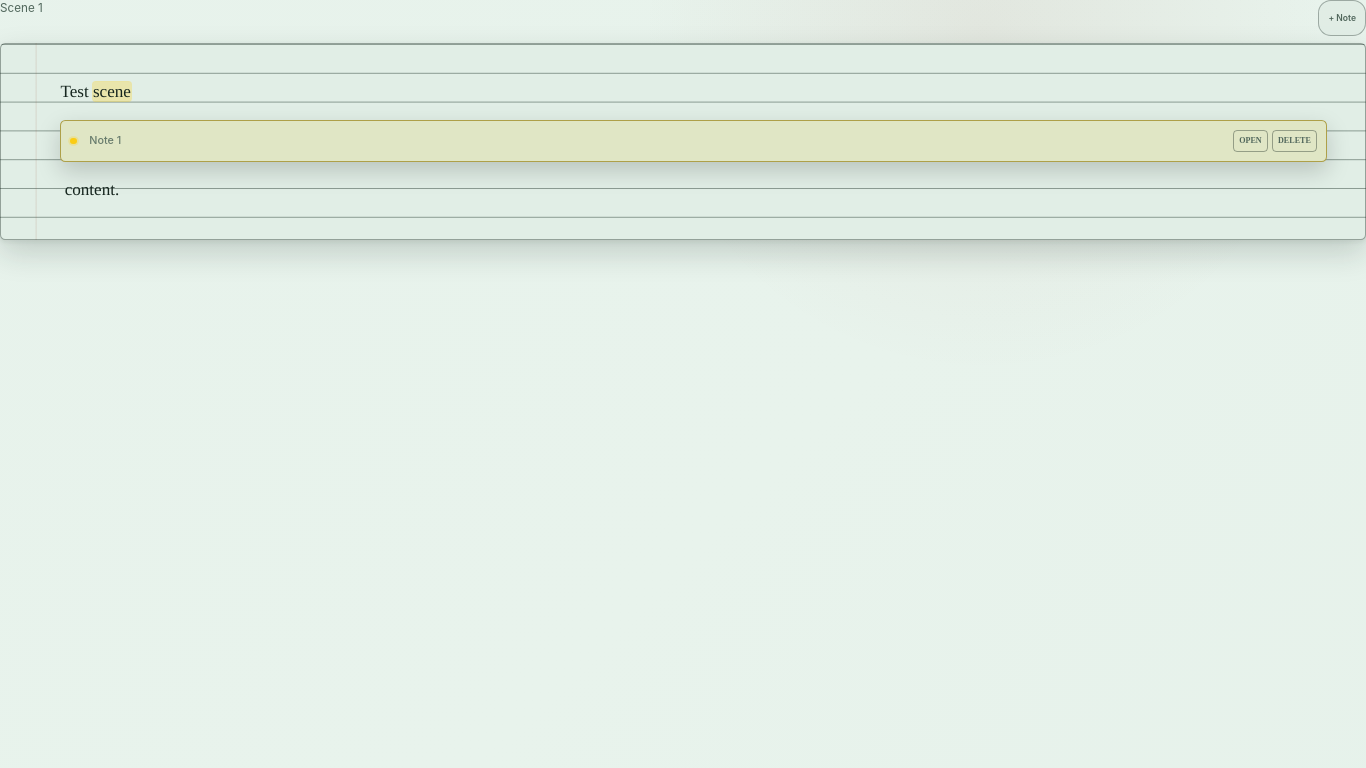
Test: SceneEditor note-anchor store commits on keystroke › highlights a range-anchored note exactly once in write mode (regression: 2026-09-24 lost-highlight/duplicate-card bug)
Click the element with class "ms-preview": (683, 228) [0,43,1365,240]
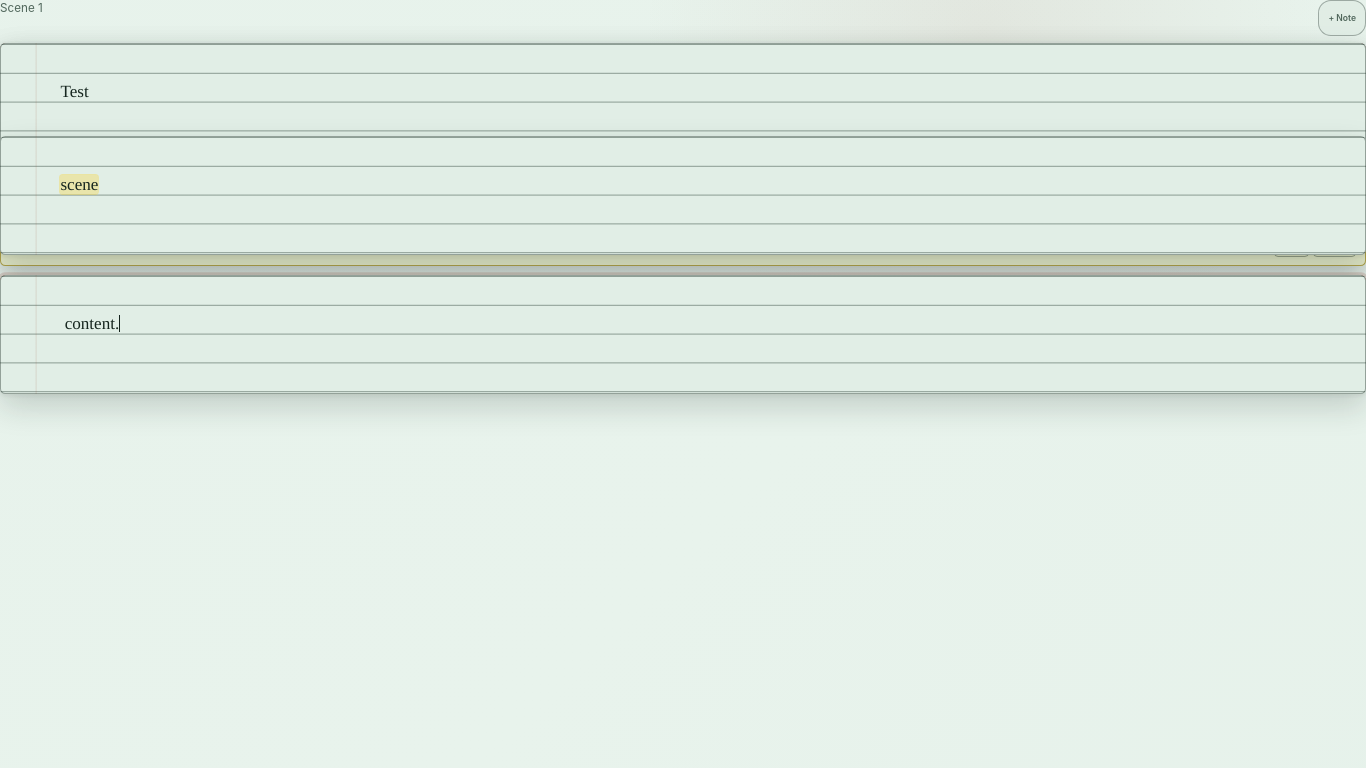
Check: the number of elements with class "ms-note-highlight" is 1, box [60,175,98,194]
Check: the text box with class "ms-textarea" next to "Test" is shown, box [0,43,1365,121]
